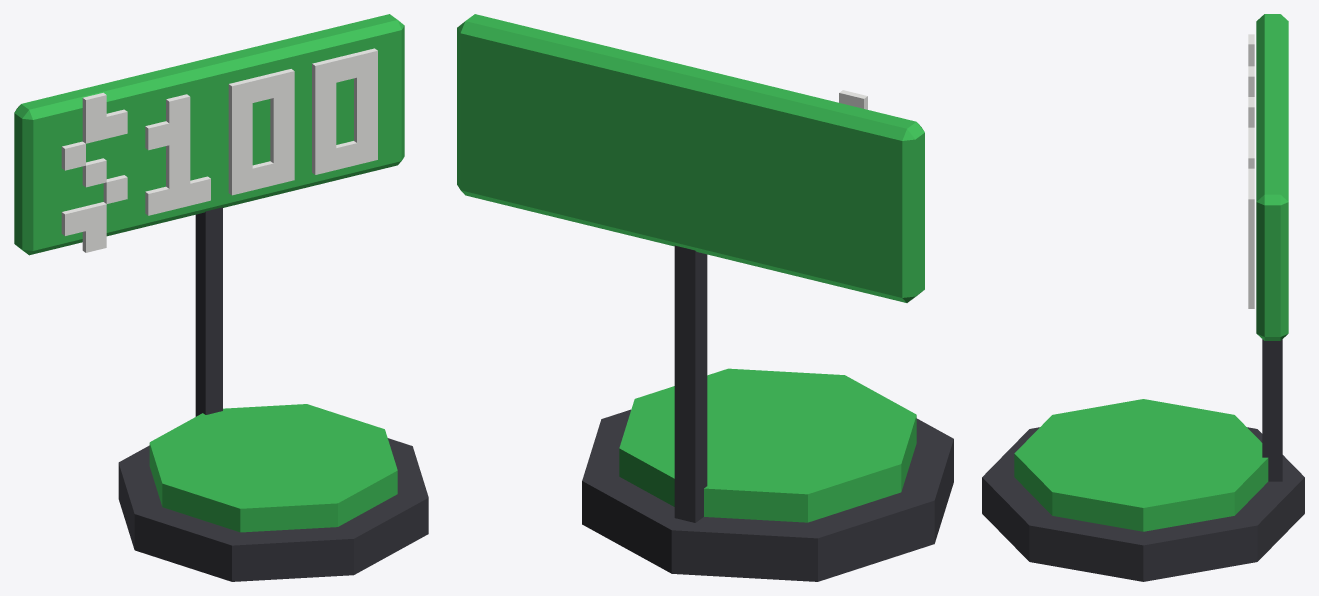
File: BuyButton.fbx
3 views of the same model, side by side, from view 1: azimuth 30°, elevation 25°; view 2: azimuth 150°, elevation 25°; view 3: azimuth 270°, elevation 25° (orthographic). The views are drawn at different scales.
Visible parts, largest first — view 1: BuyButton, BuyButton_Button; view 2: BuyButton, BuyButton_Button; view 3: BuyButton, BuyButton_Button.
Part boxes in pixels (<box>): BuyButton: <box>14,14,428,581</box>; BuyButton_Button: <box>149,404,397,532</box>; BuyButton: <box>457,14,953,581</box>; BuyButton_Button: <box>619,368,916,522</box>; BuyButton: <box>982,14,1304,581</box>; BuyButton_Button: <box>1014,399,1268,531</box>.
Size of the model in its own units: 5.5 by 5.65 by 4.
Materials: 1 (1 with a texture image).
